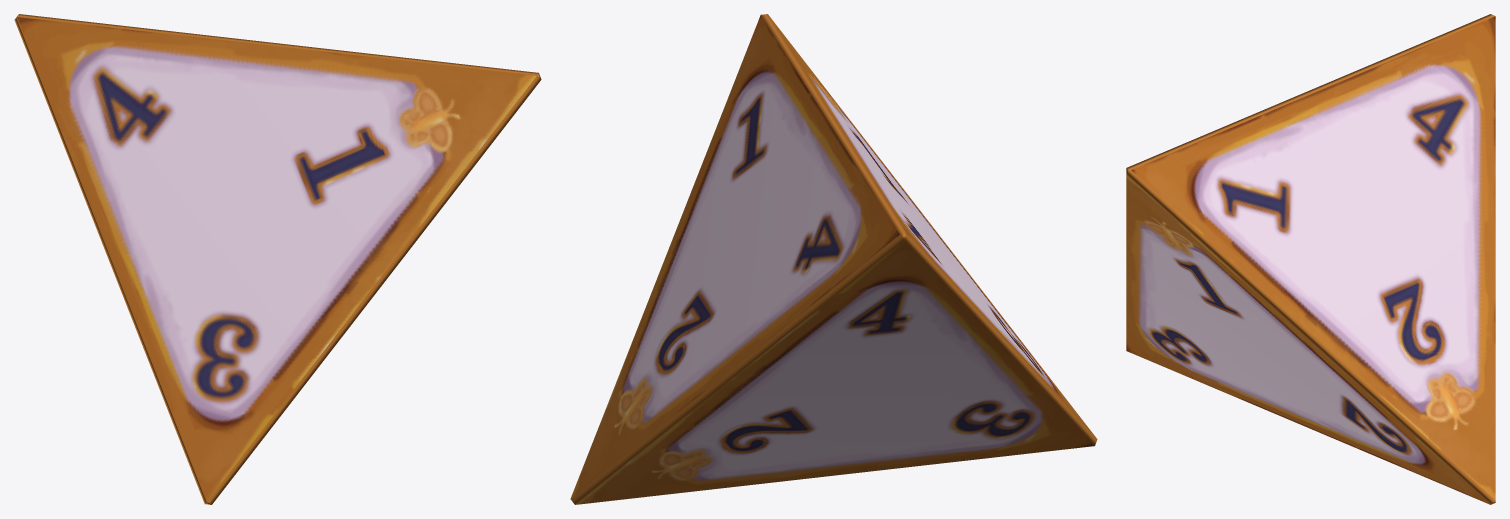
Rendered from d4-urik.glb.
3 renders of one model, left to right at view 1: azimuth 30°, elevation 25°; view 2: azimuth 150°, elevation 25°; view 3: azimuth 270°, elevation 25°, orthographic. The views are drawn at different scales.
Visible parts, largest first — view 1: Mesh_0; view 2: Mesh_0; view 3: Mesh_0.
Boxes of the visible parts, x1,y1,x2,y2 form: Mesh_0: [14, 14, 541, 504]; Mesh_0: [570, 14, 1097, 504]; Mesh_0: [1126, 14, 1495, 504].
Bounding box in the file's own units: 135 × 135 × 135.
1 material, 1 textured.
